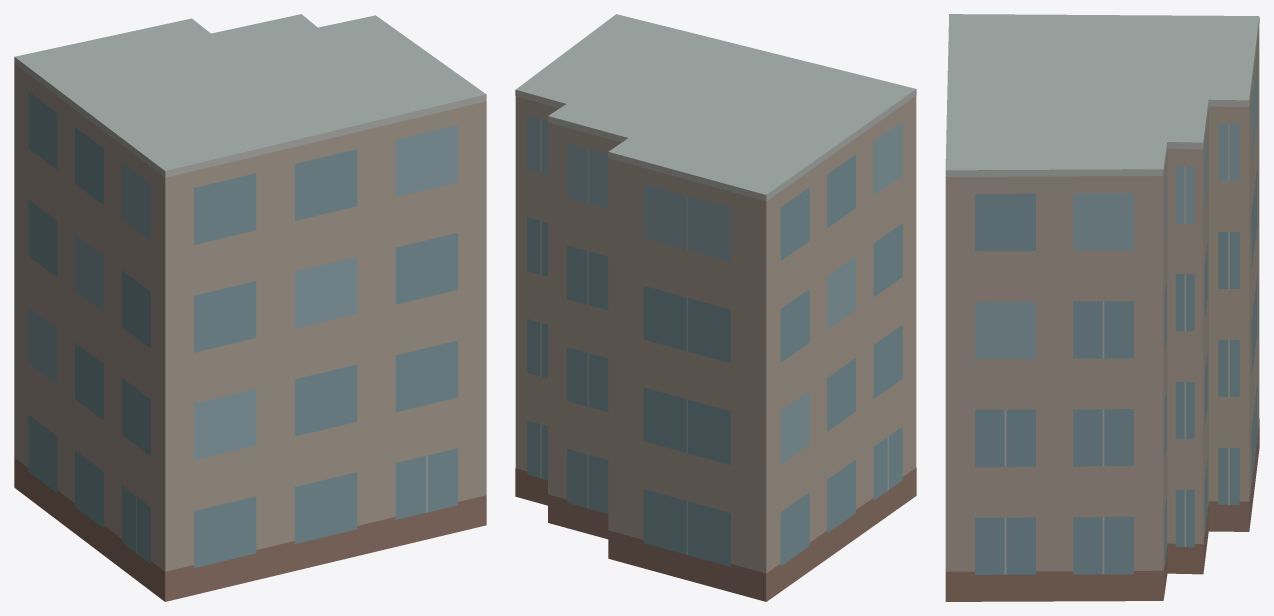
Rendered from survey-upis-32798740.glb.
The picture shows the model from 3 angles, left to right: view 1: azimuth 30°, elevation 25°; view 2: azimuth 150°, elevation 25°; view 3: azimuth 270°, elevation 25°; orthographic projection. The views are drawn at different scales.
Visible parts, largest first — view 1: survey-upis-32798740.tmp; view 2: survey-upis-32798740.tmp; view 3: survey-upis-32798740.tmp.
Part boxes in pixels (x1,y1,x2,y2): survey-upis-32798740.tmp: (14,14,486,601); survey-upis-32798740.tmp: (515,14,916,601); survey-upis-32798740.tmp: (945,14,1259,601).
Bounding box in the file's own units: 11.97 × 15.4 × 10.16.
